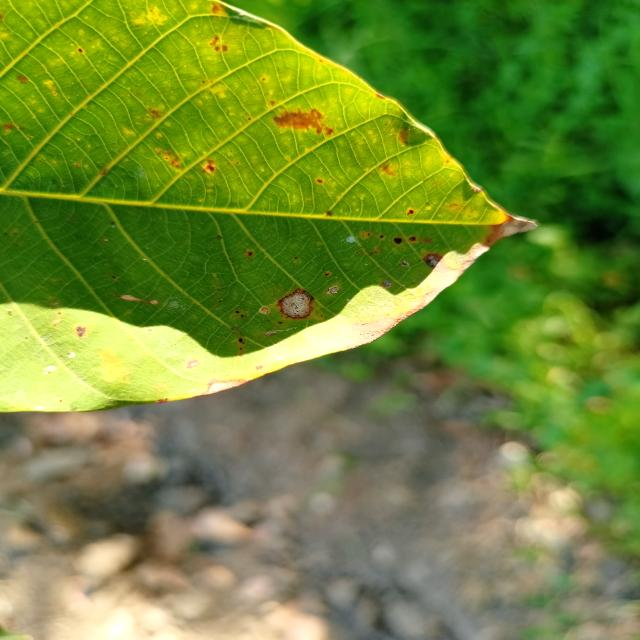Colletotrichum: (394, 238, 402, 244), (409, 237, 416, 241), (379, 236, 384, 238)
Leaf-Blight: (487, 215, 538, 246), (282, 293, 310, 317), (205, 380, 248, 394)
